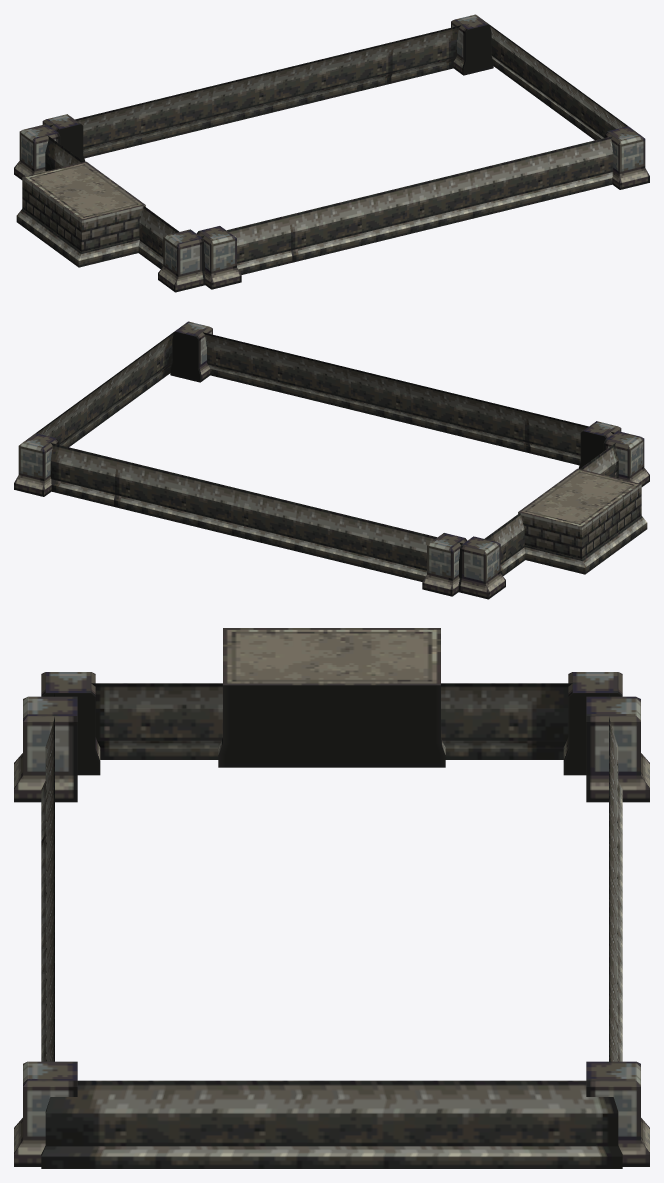
The model's file is EnvBdgMD_Mount_Daiseidou_A_Shrine_Base.FBX.
3 views of the same model, one above another, from view 1: azimuth 30°, elevation 25°; view 2: azimuth 150°, elevation 25°; view 3: azimuth 270°, elevation 25° (orthographic). The views are drawn at different scales.
Parts seen in each view (by area): view 1: EnvBdgMD_Mount_Daiseidou_A_Shrine_Base; view 2: EnvBdgMD_Mount_Daiseidou_A_Shrine_Base; view 3: EnvBdgMD_Mount_Daiseidou_A_Shrine_Base.
Boxes of the visible parts, x1,y1,x2,y2 form: EnvBdgMD_Mount_Daiseidou_A_Shrine_Base: (14, 14, 649, 292); EnvBdgMD_Mount_Daiseidou_A_Shrine_Base: (14, 321, 649, 599); EnvBdgMD_Mount_Daiseidou_A_Shrine_Base: (14, 628, 649, 1168).
Bounding box in the file's own units: 1204 × 100 × 700.
1 material, 1 textured.
